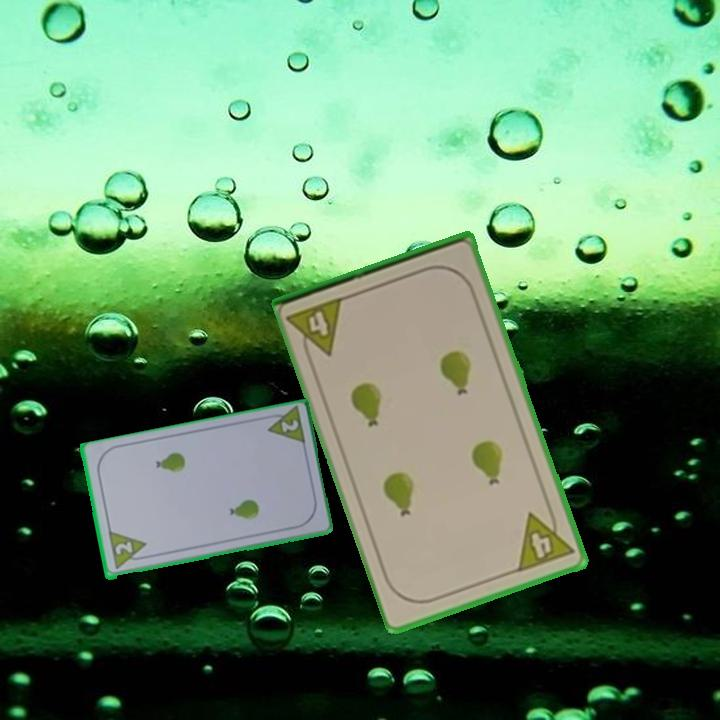2p: (111, 538, 135, 558), (277, 417, 301, 436)
4p: (514, 502, 577, 575), (285, 293, 348, 364)
